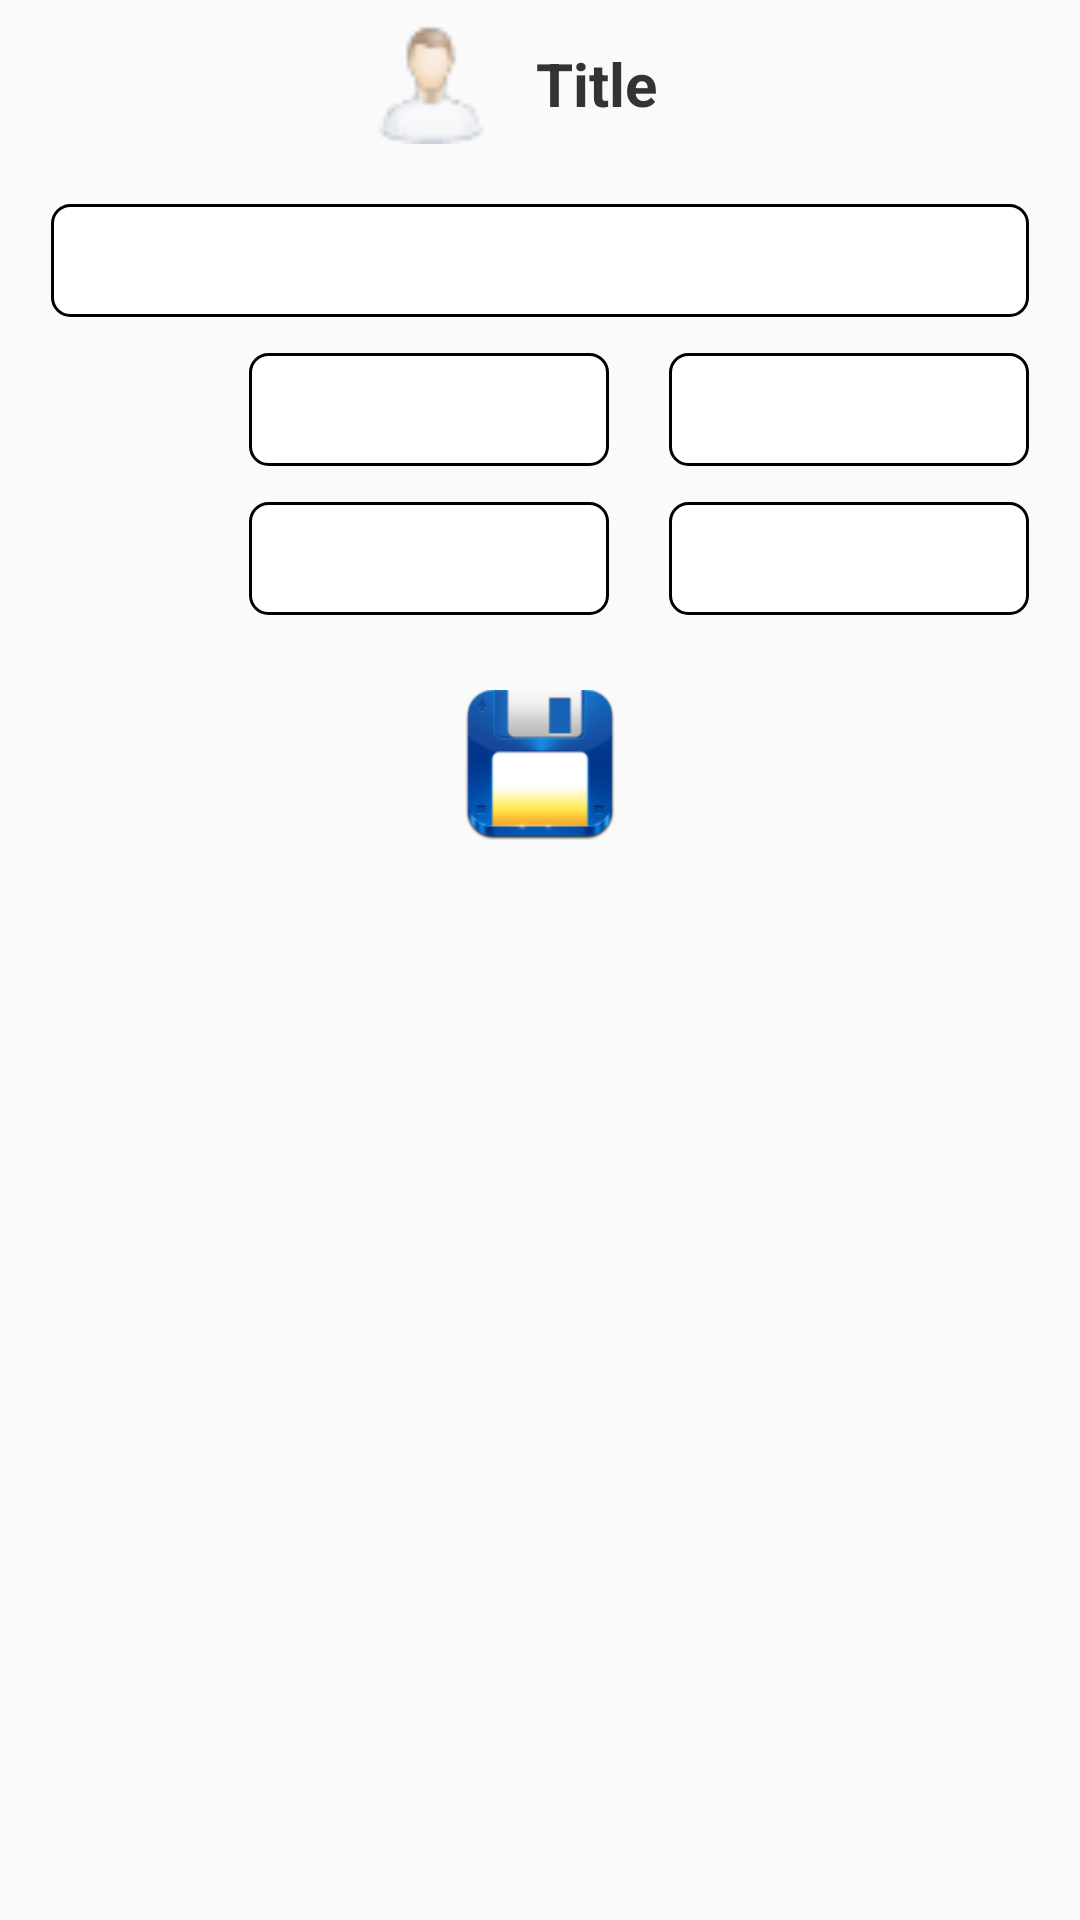

Named icons in this screenshot (1080 x 1920) and their bounding boxes, (x1, y1, x2, y2):
client nav: (383, 27, 479, 144)
save: (466, 690, 614, 840)
